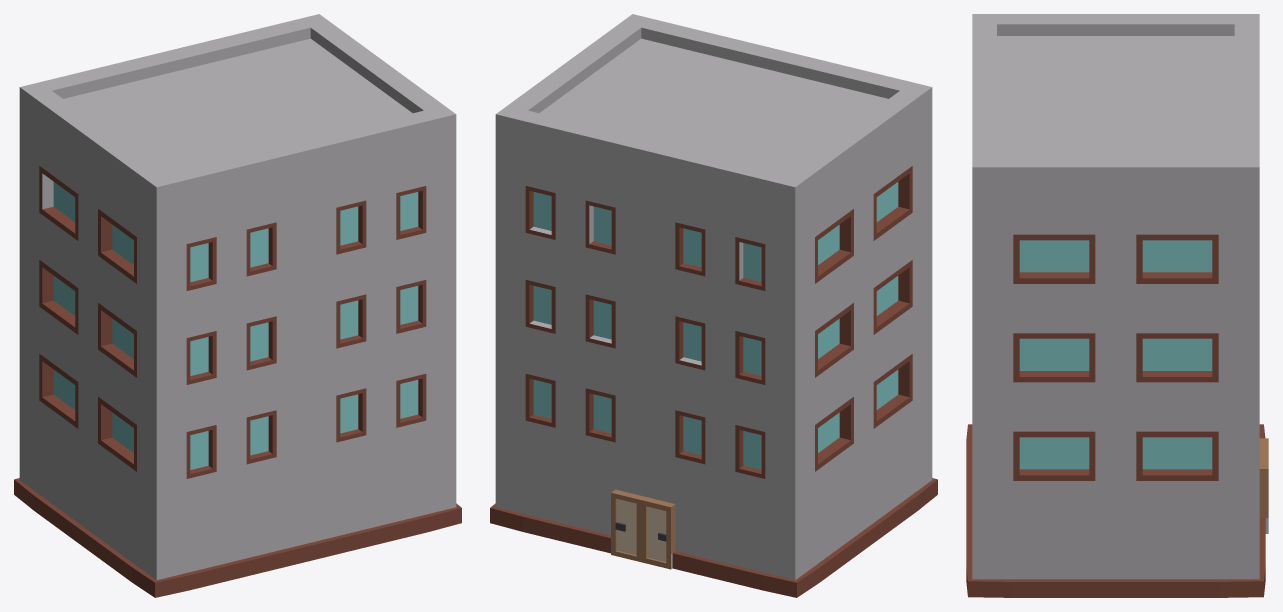
File: builing_01.fbx
3 views of the same model, side by side, from view 1: azimuth 30°, elevation 25°; view 2: azimuth 150°, elevation 25°; view 3: azimuth 270°, elevation 25° (orthographic). The views are drawn at different scales.
Parts seen in each view (by area): view 1: Cube; view 2: Cube; view 3: Cube.
Part boxes in pixels (left/top/right/bottom): Cube: left=14, top=14, right=461, bottom=597; Cube: left=490, top=14, right=937, bottom=597; Cube: left=966, top=14, right=1268, bottom=597.
Bounding box in the file's own units: 1390 × 1750 × 1122.
Materials: 1 (1 with a texture image).
